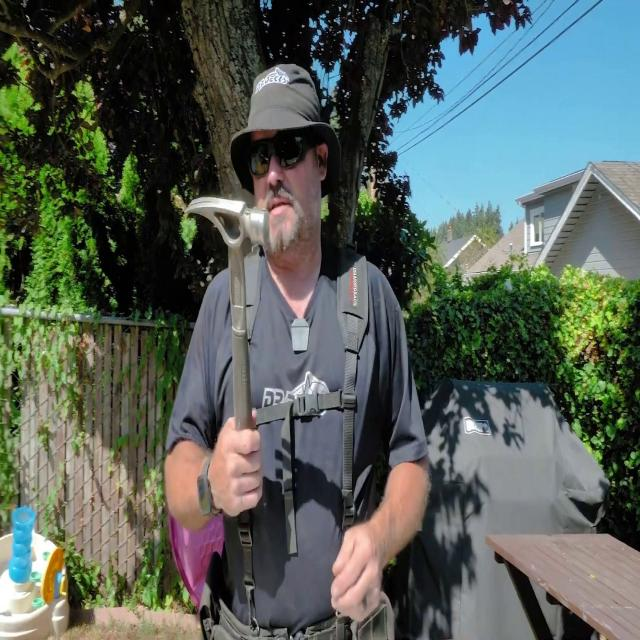hammer: (187, 197, 270, 510)
